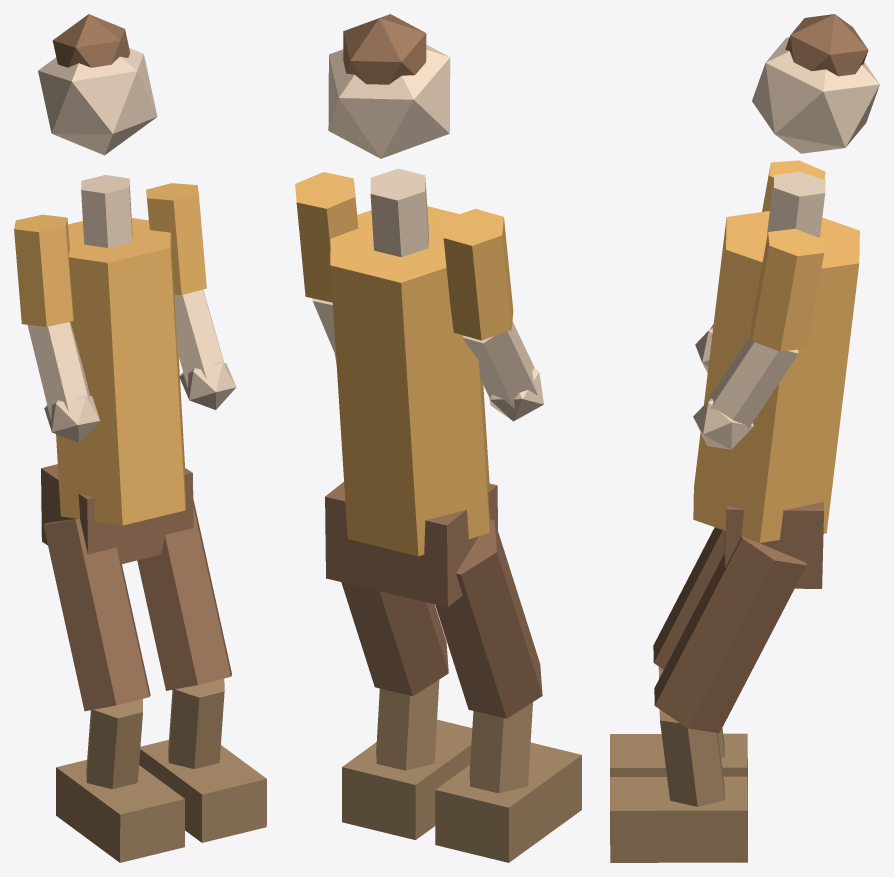
File: pose_hit_light_13.glb
The picture shows the model from 3 angles, left to right: view 1: azimuth 30°, elevation 25°; view 2: azimuth 150°, elevation 25°; view 3: azimuth 270°, elevation 25°; orthographic projection. The views are drawn at different scales.
Visible parts, largest first — view 1: pose; view 2: pose; view 3: pose.
Part boxes in pixels (left/top/right/bottom): pose: left=14, top=14, right=266, bottom=862; pose: left=295, top=14, right=581, bottom=862; pose: left=610, top=14, right=879, bottom=862.
Bounding box in the file's own units: 0.3963 × 1.56 × 0.4705.
